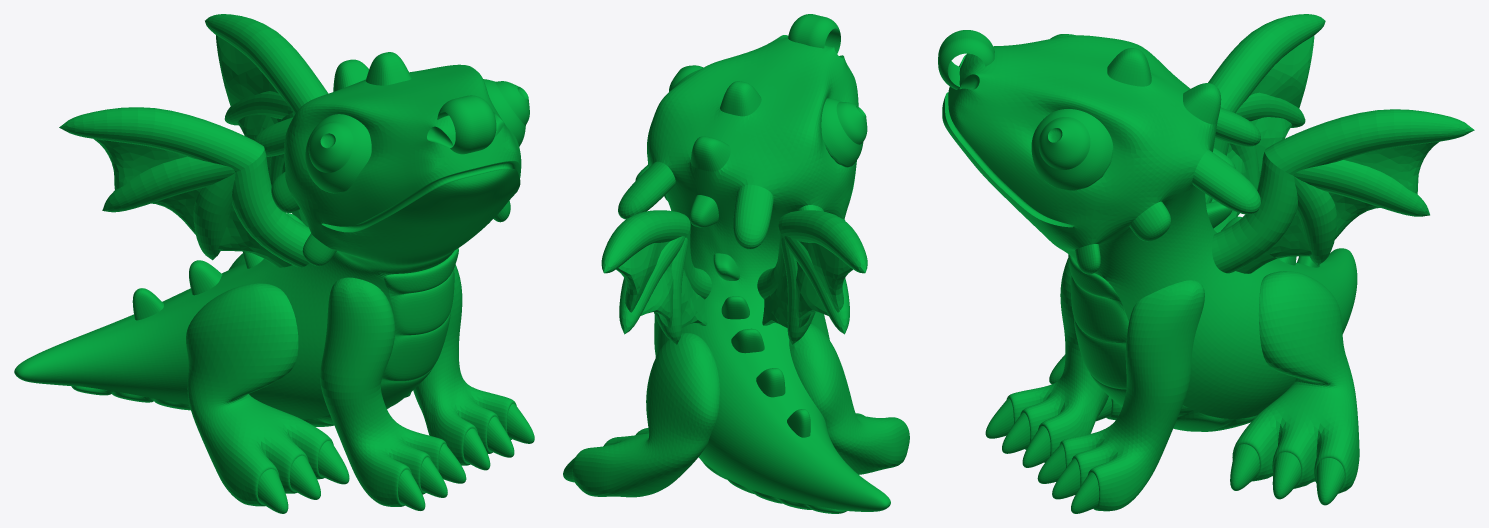
Rendered from dragon-keychain.glb.
The picture shows the model from 3 angles, left to right: view 1: azimuth 30°, elevation 25°; view 2: azimuth 150°, elevation 25°; view 3: azimuth 270°, elevation 25°; orthographic projection. The views are drawn at different scales.
Parts seen in each view (by area): view 1: CUTE DRAGON KEYCHAIN.stl_fil1; view 2: CUTE DRAGON KEYCHAIN.stl_fil1; view 3: CUTE DRAGON KEYCHAIN.stl_fil1.
Boxes of the visible parts, x1,y1,x2,y2 form: CUTE DRAGON KEYCHAIN.stl_fil1: [14, 14, 534, 513]; CUTE DRAGON KEYCHAIN.stl_fil1: [563, 14, 909, 513]; CUTE DRAGON KEYCHAIN.stl_fil1: [938, 14, 1474, 513].
Size of the model in its own units: 0.0477 by 0.0489 by 0.056.
